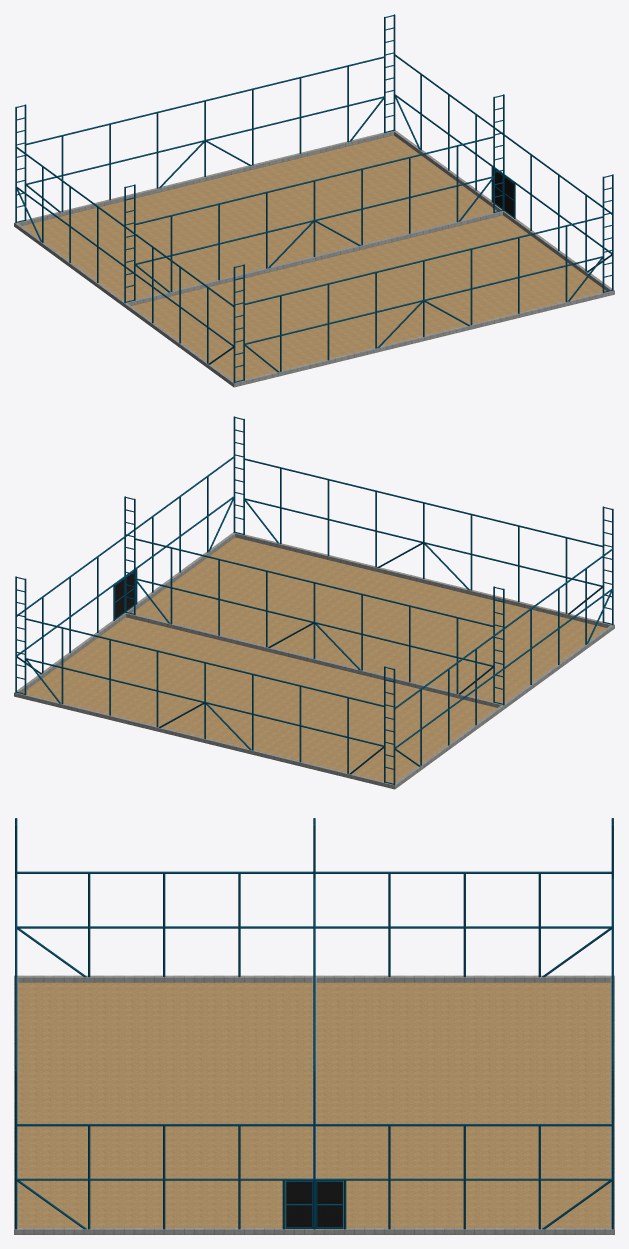
Rendered from quadra_beach_tennis.glb.
3 views of the same model, one above another, from view 1: azimuth 30°, elevation 25°; view 2: azimuth 150°, elevation 25°; view 3: azimuth 270°, elevation 25° (orthographic). The views are drawn at different scales.
Parts seen in each view (by area): view 1: Material2 (×4); view 2: Material2 (×4); view 3: Material2 (×4).
Boxes of the visible parts, <box> form: Material2 (×4): <box>14,14,614,387</box>; Material2 (×4): <box>14,416,614,789</box>; Material2 (×4): <box>14,818,614,1234</box>.
Bounding box in the file's own units: 787 × 236 × 787.
Materials: 4 (3 with a texture image).
